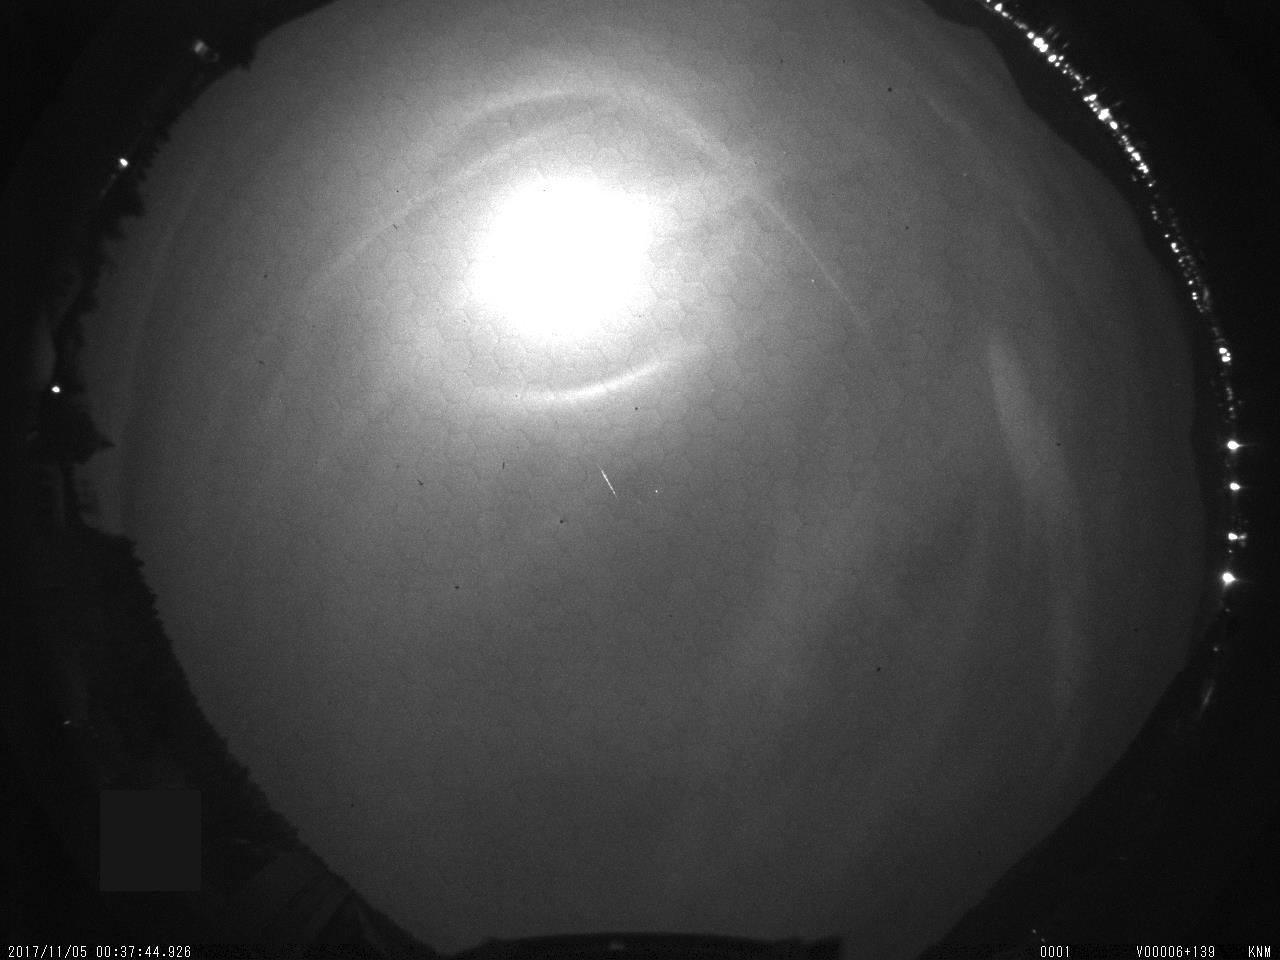meteor: (584, 458, 635, 510)
